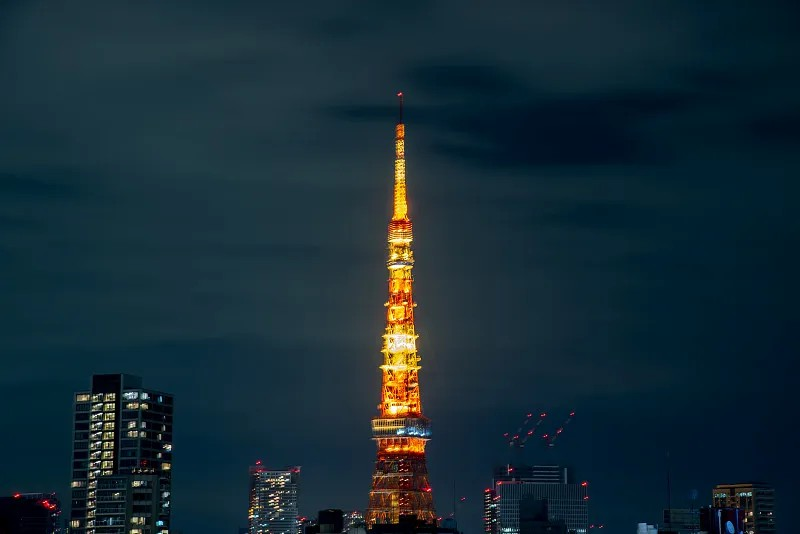Tokyo: (364, 87, 438, 524)
